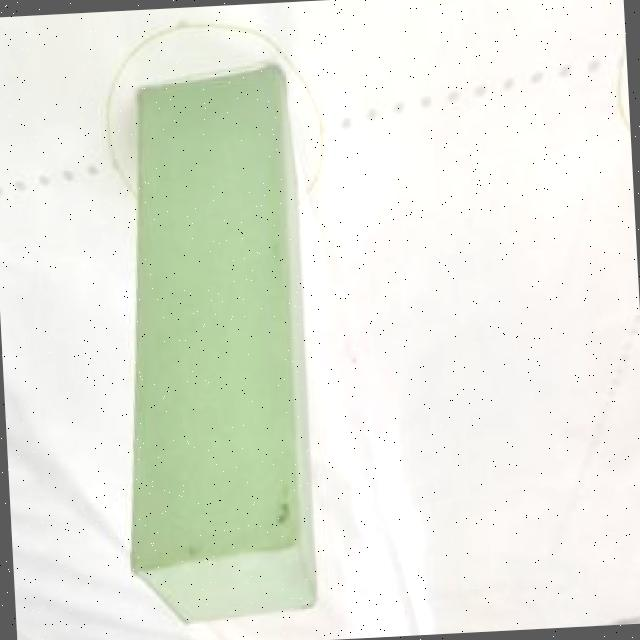greenbox: (101, 57, 320, 630)
